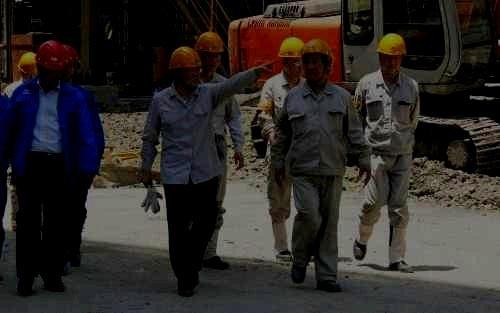helmet: (34, 40, 68, 87), (168, 47, 202, 93), (300, 39, 333, 83), (193, 31, 224, 72), (376, 33, 406, 72), (277, 37, 305, 78), (62, 45, 82, 83), (16, 52, 38, 83)
